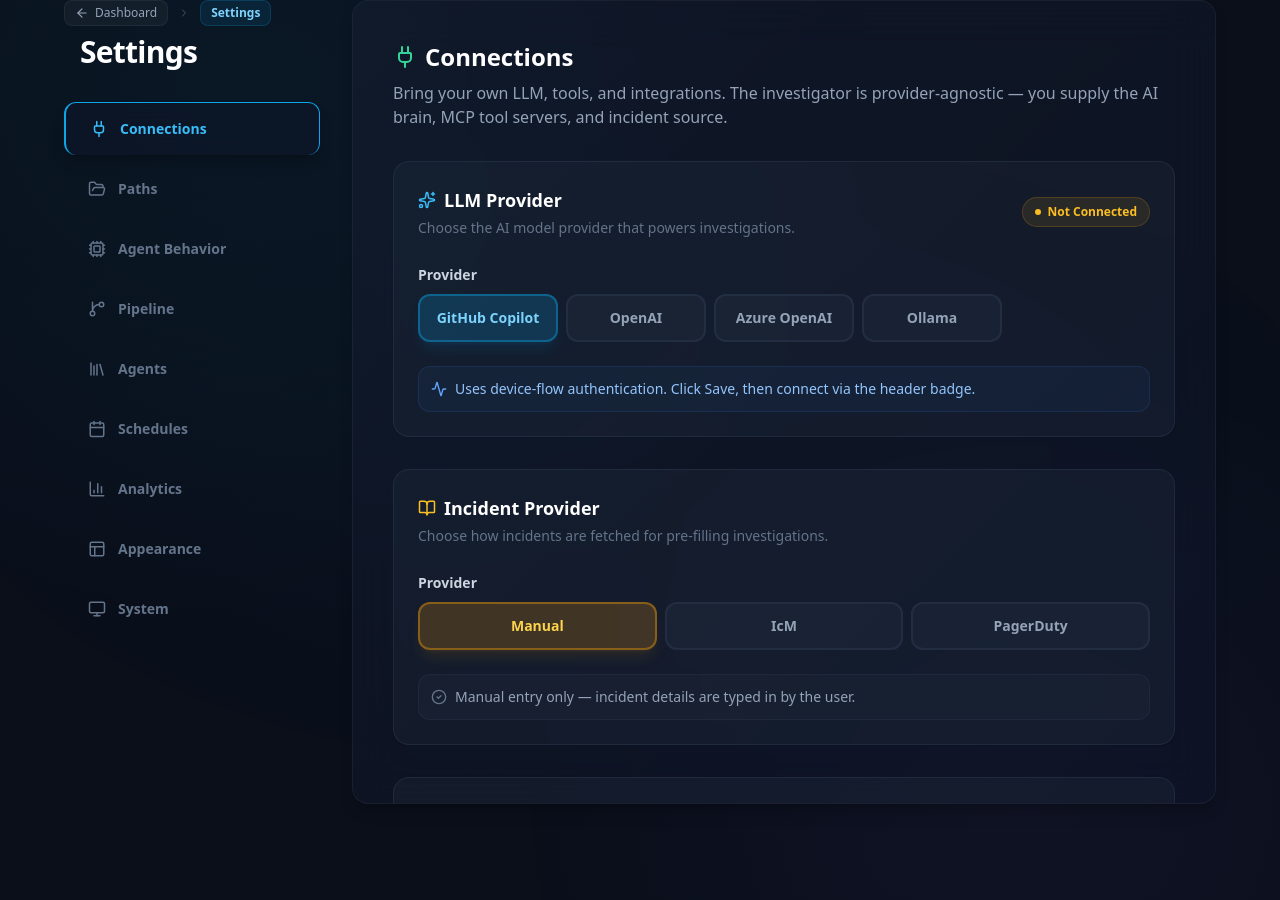
Settings › Tab Switching › switches to Appearance tab and shows view options
Expected: the heading "Settings" is shown, left=80, top=31, right=197, bottom=72
Click the button "Appearance" at (192, 549), box left=64, top=523, right=320, bottom=575
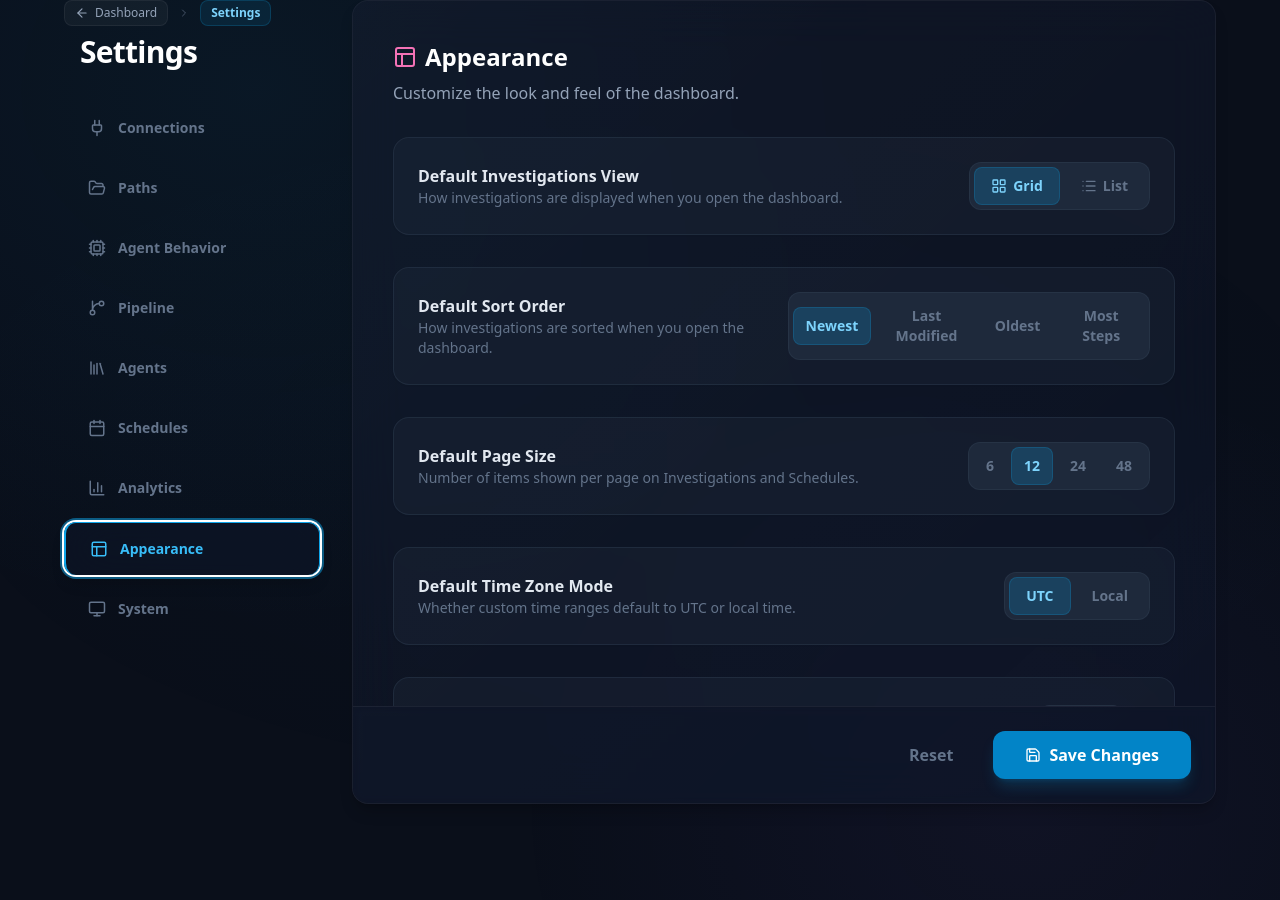
Expected: the heading "Default Investigations View" is shown, left=418, top=165, right=639, bottom=187
Expected: the heading "Default Sort Order" is shown, left=418, top=295, right=565, bottom=317
